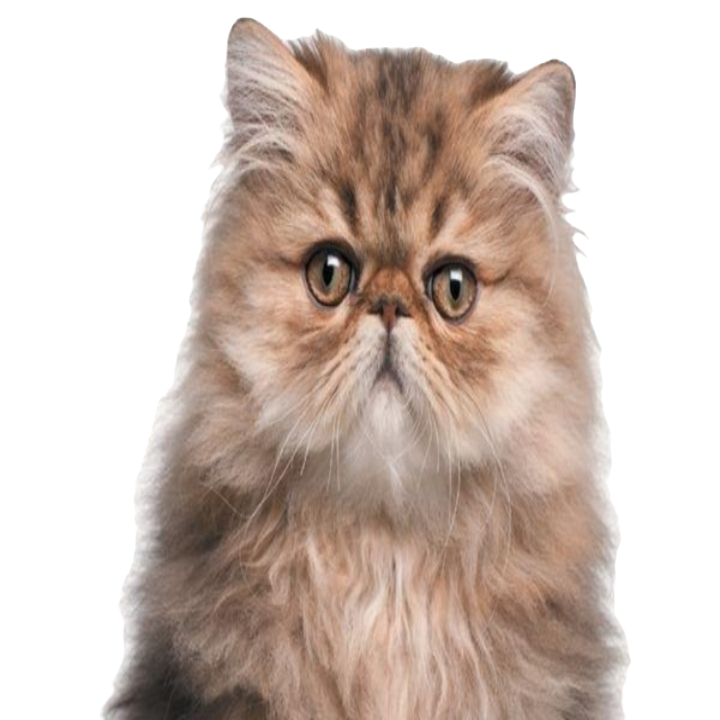Cat: (99, 10, 631, 719)
